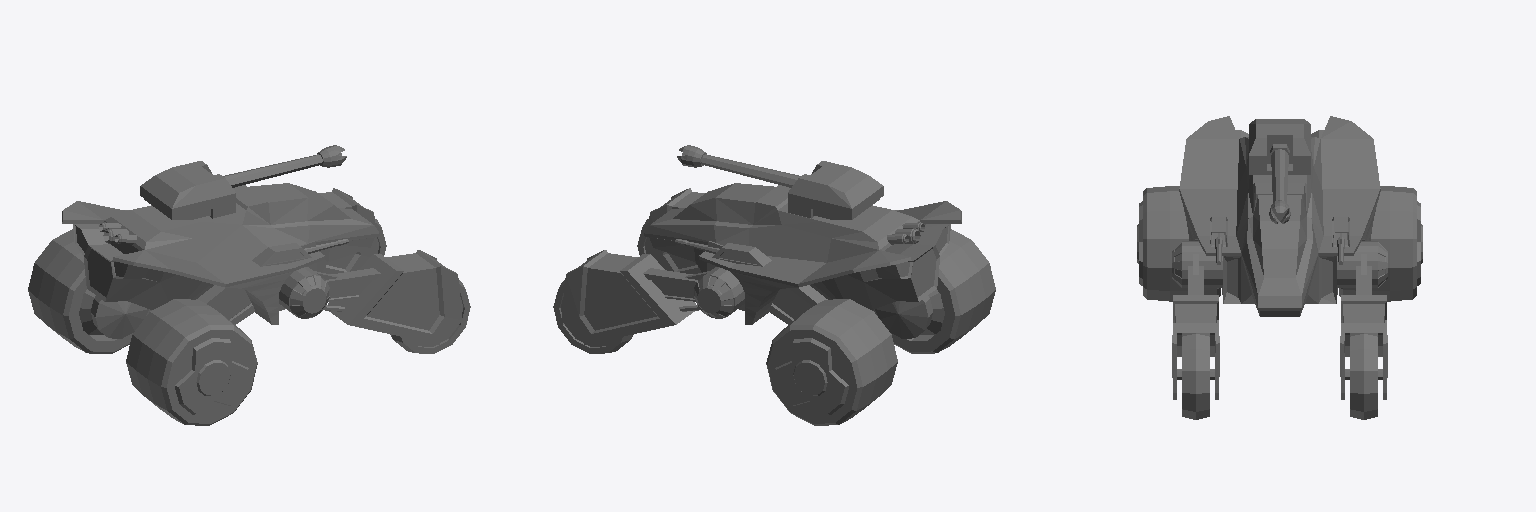
Rendered from puma.obj.
3 views of the same model, side by side, from view 1: azimuth 30°, elevation 25°; view 2: azimuth 150°, elevation 25°; view 3: azimuth 270°, elevation 25° (orthographic).
Visible parts, largest first — view 1: Puma2; view 2: Puma2; view 3: Puma2.
Part boxes in pixels (bbox=[...]): Puma2: bbox=[28, 145, 470, 425]; Puma2: bbox=[553, 145, 995, 425]; Puma2: bbox=[1137, 116, 1422, 419].
Bounding box in the file's own units: 13.93 × 7.65 × 10.25.